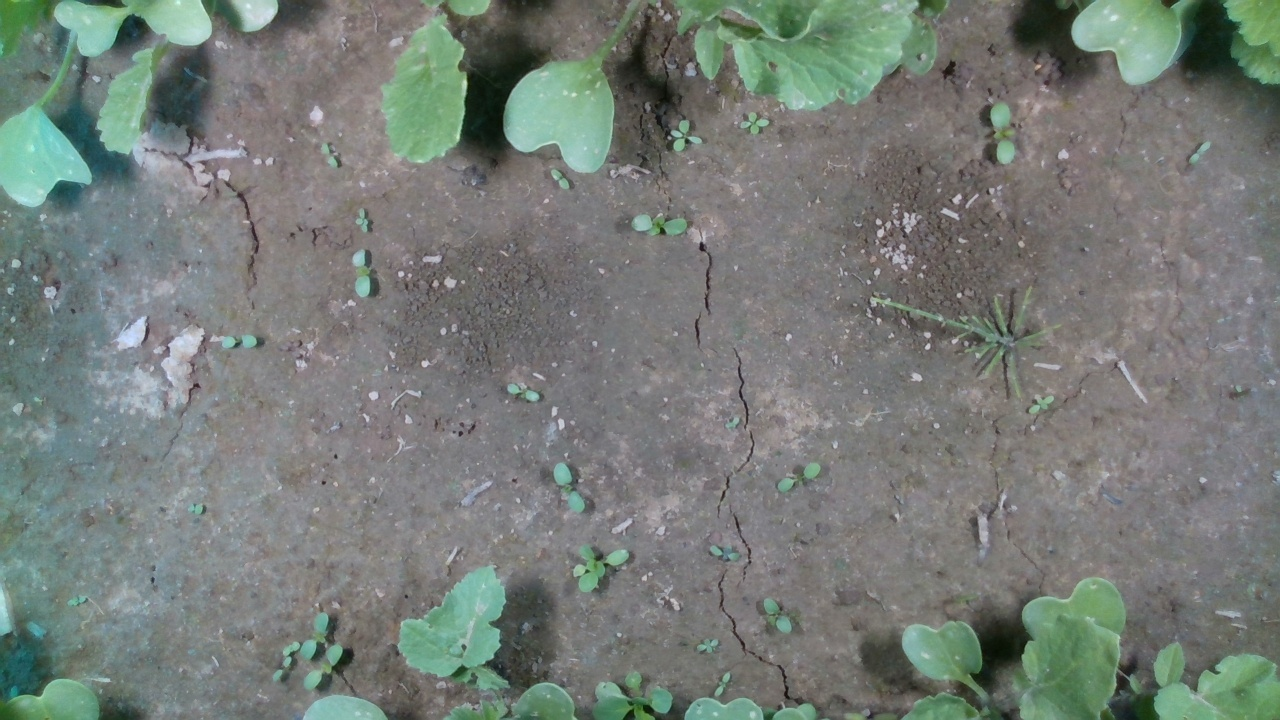weed: (989, 100, 1015, 167), (553, 462, 586, 513), (777, 460, 821, 492), (667, 117, 705, 154), (628, 213, 689, 236), (761, 596, 793, 636), (738, 110, 771, 136), (505, 382, 540, 402), (270, 655, 292, 685), (317, 141, 339, 168), (709, 543, 740, 562), (1189, 138, 1211, 164), (1027, 394, 1054, 415), (220, 333, 257, 348), (713, 671, 731, 699), (549, 168, 569, 191), (695, 636, 719, 655), (354, 207, 368, 233)
